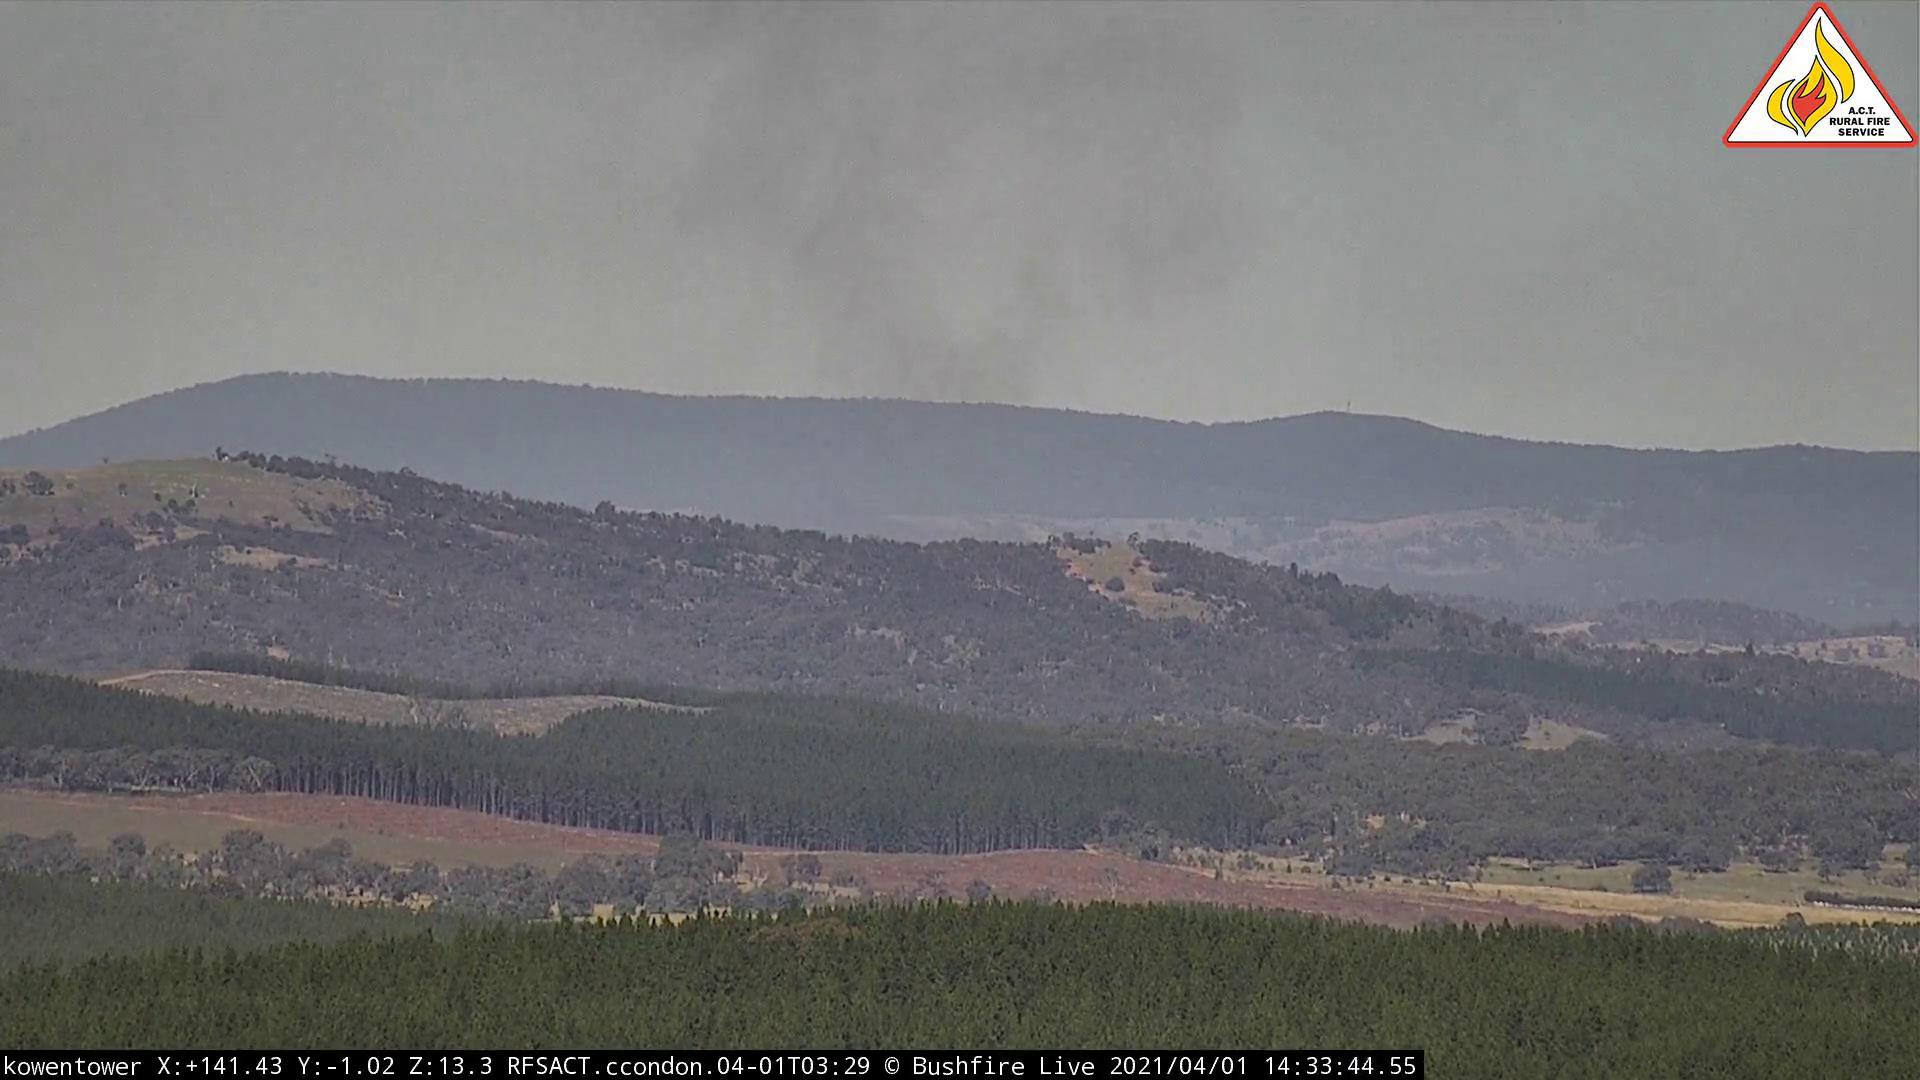Smoke: (649, 3, 1288, 541)
